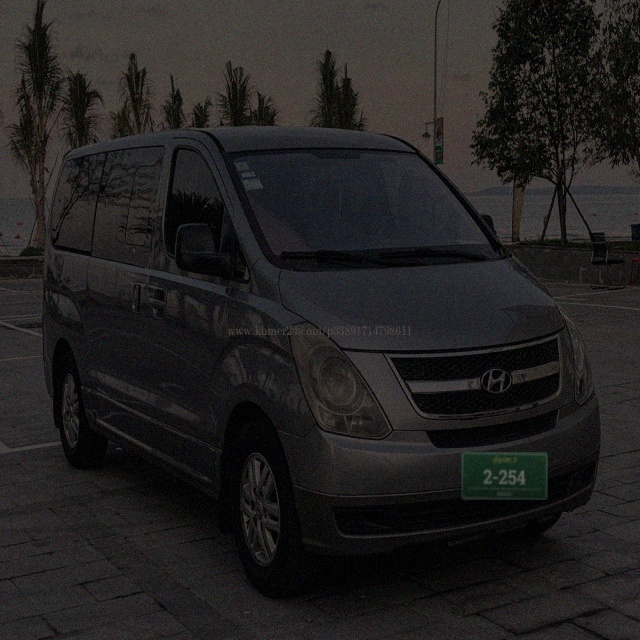Plate Number: (462, 452, 548, 501)
